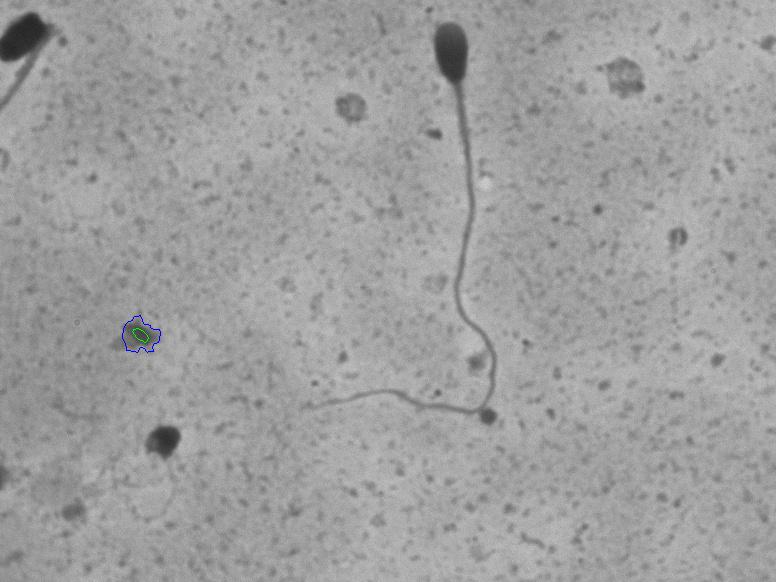Normal: (281, 10, 531, 462)
